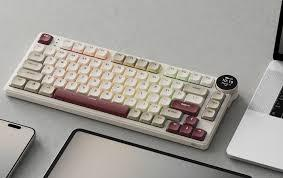keyboard: (4, 31, 239, 150)
